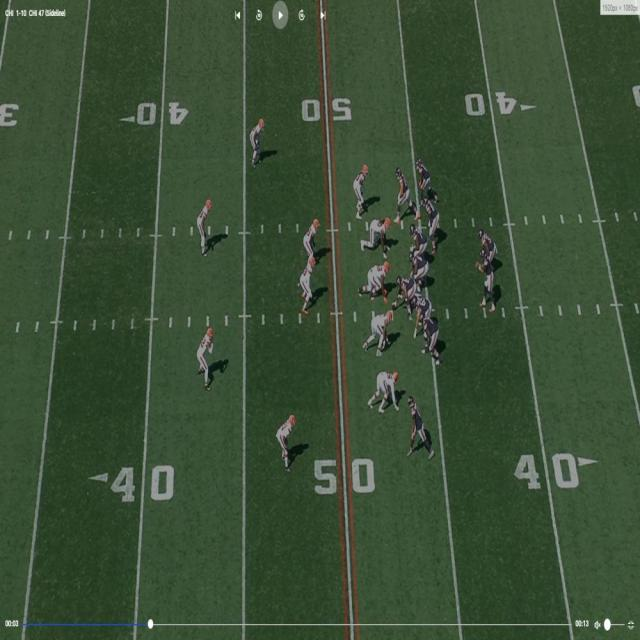center: (396, 272, 416, 313)
db: (277, 412, 296, 467), (199, 199, 214, 255), (199, 329, 214, 383), (251, 115, 266, 164), (356, 166, 366, 220)
lb: (300, 259, 314, 311), (305, 219, 317, 260)
qb: (479, 248, 496, 311)
skill: (411, 397, 432, 457), (422, 199, 440, 255), (395, 167, 414, 218), (418, 158, 436, 196), (478, 228, 493, 267)
